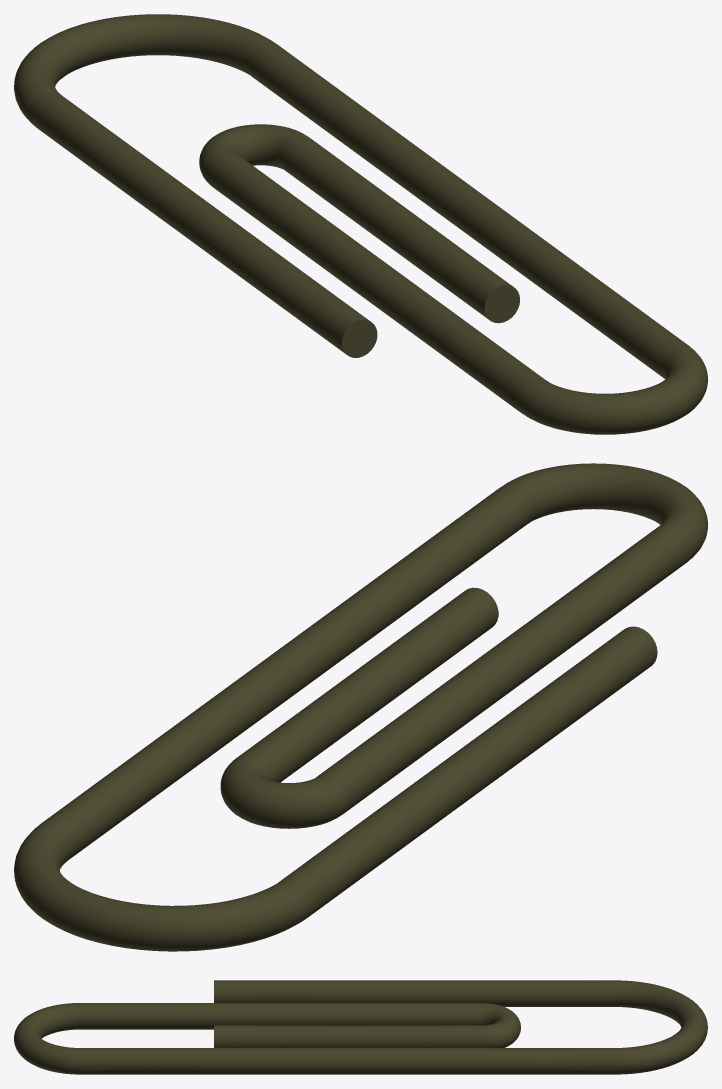
Rendered from paperclip.glb.
3 renders of one model, top to bottom at view 1: azimuth 30°, elevation 25°; view 2: azimuth 150°, elevation 25°; view 3: azimuth 270°, elevation 25°, orthographic. The views are drawn at different scales.
Visible parts, largest first — view 1: Object_2; view 2: Object_2; view 3: Object_2.
Part boxes in pixels (bbox=[...]): Object_2: bbox=[14, 14, 707, 434]; Object_2: bbox=[14, 463, 707, 951]; Object_2: bbox=[14, 980, 707, 1074].
Size of the model in its own units: 0.889 by 0.127 by 3.3.
